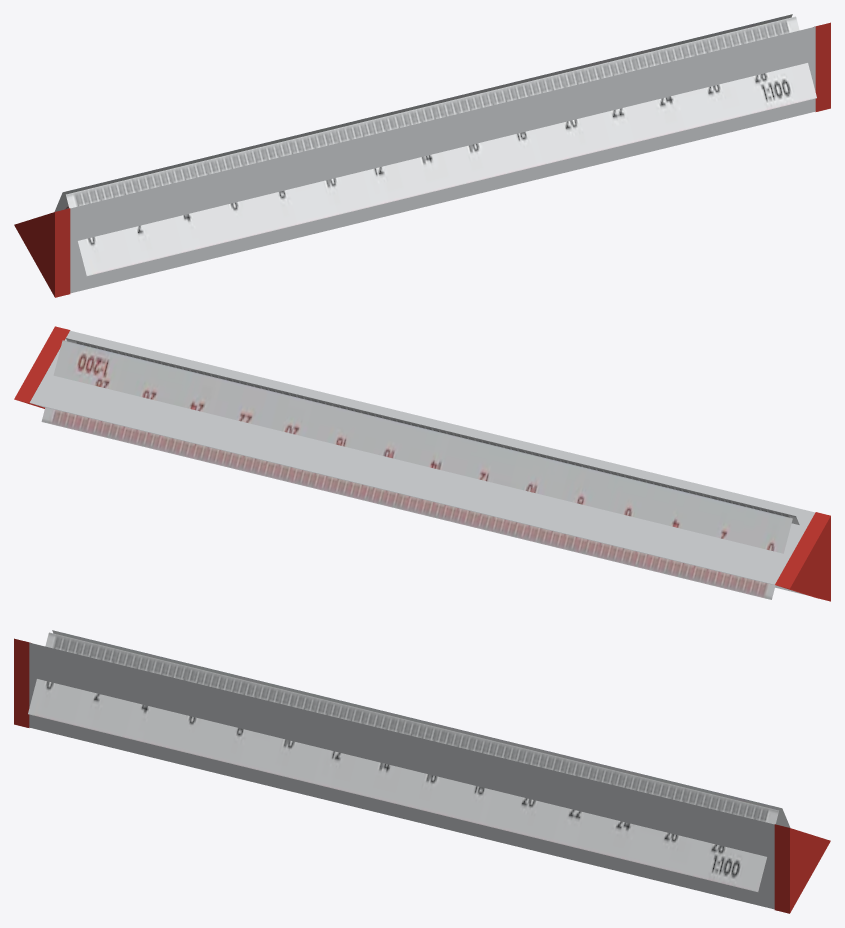
Rendered from herodesk-arch-scale-ruler.glb.
The picture shows the model from 3 angles, top to bottom: view 1: azimuth 30°, elevation 25°; view 2: azimuth 150°, elevation 25°; view 3: azimuth 330°, elevation 25°; orthographic projection.
Parts seen in each view (by area): view 1: herodesk-arch-scale-ruler · mesh; view 2: herodesk-arch-scale-ruler · mesh; view 3: herodesk-arch-scale-ruler · mesh.
Boxes of the visible parts, x1=… form: herodesk-arch-scale-ruler · mesh: x1=14, y1=14, x2=830, y2=297; herodesk-arch-scale-ruler · mesh: x1=14, y1=326, x2=830, y2=601; herodesk-arch-scale-ruler · mesh: x1=14, y1=630, x2=830, y2=913.
Bounding box in the file's own units: 0.306 × 0.0335 × 0.0342.
3 materials, 1 textured.
